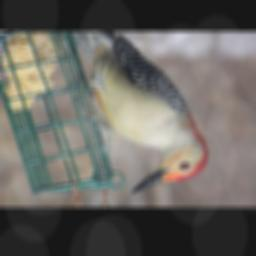Woodpecker: (74, 32, 208, 194)
